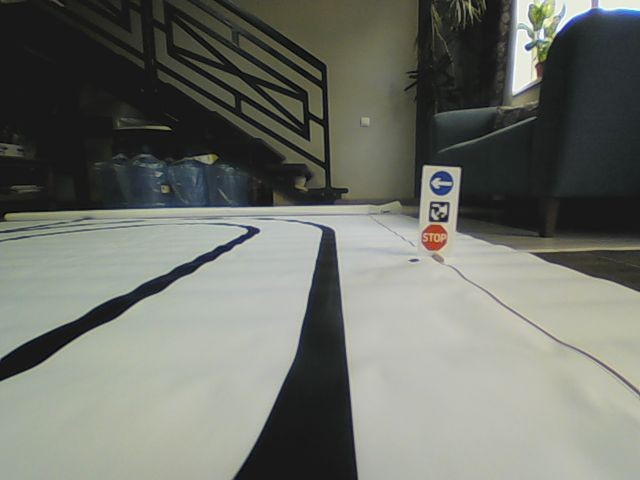Stop: (420, 223, 448, 251)
